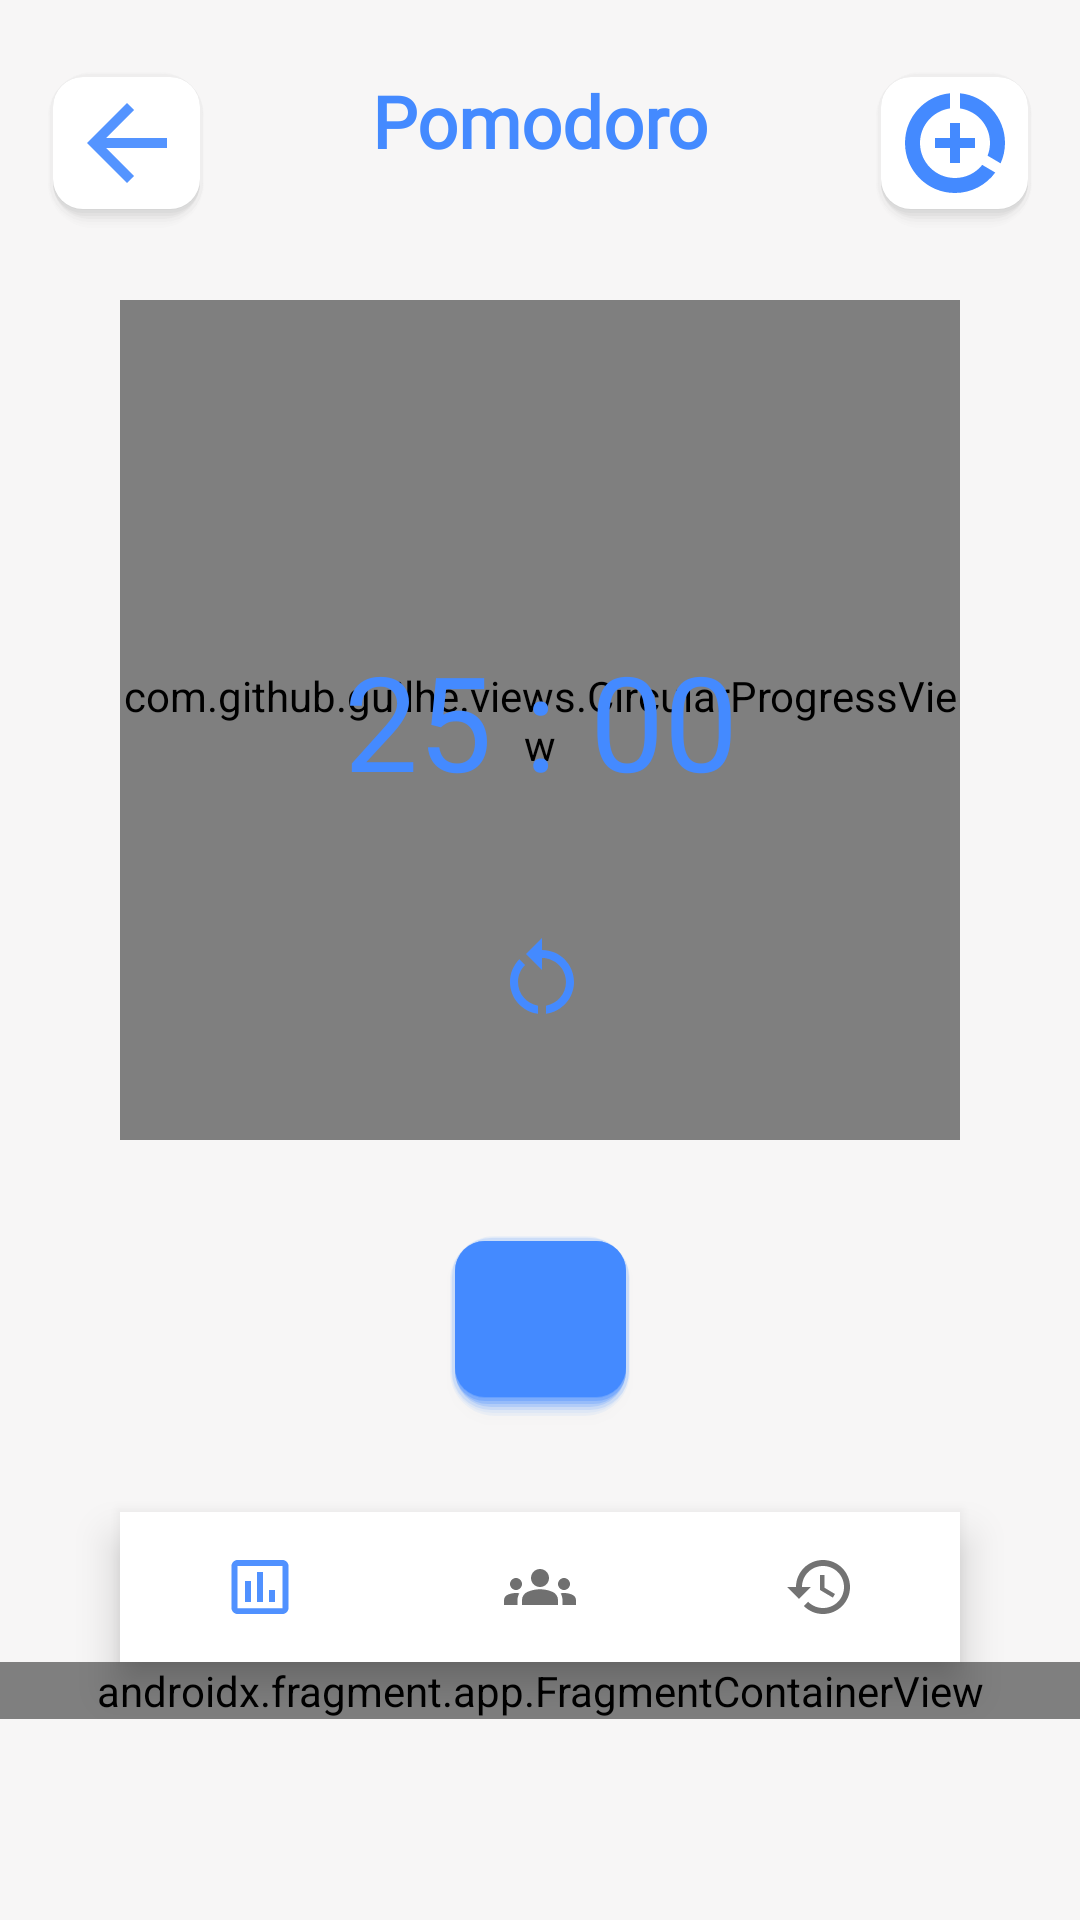

Screen size 1080*1920. Icon name, then its center in pixels as (x,y):
add pomodoro: (956,148)
back: (128,148)
restart: (542,976)
